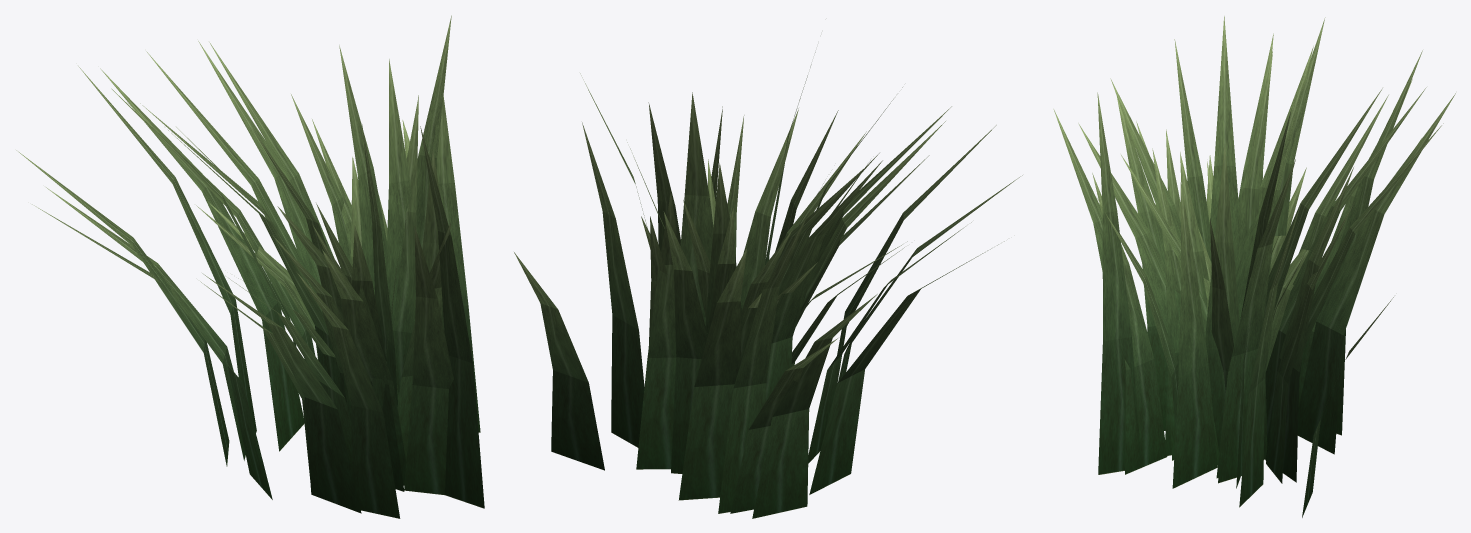
File: Grass_Clump.glb
3 renders of one model, left to right at view 1: azimuth 30°, elevation 25°; view 2: azimuth 150°, elevation 25°; view 3: azimuth 270°, elevation 25°, orthographic. The views are drawn at different scales.
Visible parts, largest first — view 1: Grass_Clump__Blades; view 2: Grass_Clump__Blades; view 3: Grass_Clump__Blades.
Part boxes in pixels (box(x1,y1,x2,y2)): Grass_Clump__Blades: box(16, 15, 484, 518); Grass_Clump__Blades: box(514, 52, 1022, 518); Grass_Clump__Blades: box(1053, 16, 1455, 517).
Size of the model in its own units: 4.07 by 3.39 by 3.48.
Materials: 1 (1 with a texture image).
